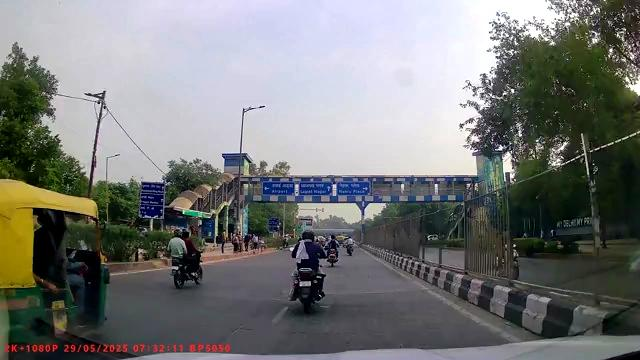motorcycle_with_helmet: (290, 227, 326, 314)
passenger_with_helmet: (168, 228, 204, 289)
